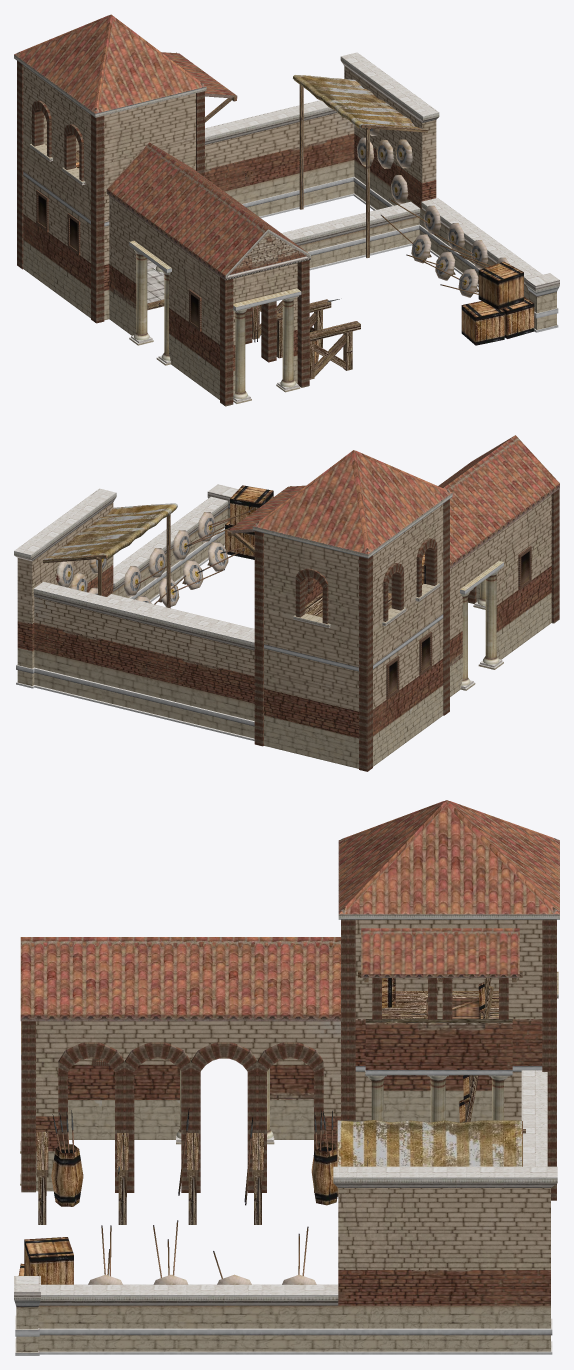
Rendered from building-archery.glb.
3 renders of one model, top to bottom at view 1: azimuth 30°, elevation 25°; view 2: azimuth 150°, elevation 25°; view 3: azimuth 270°, elevation 25°, orthographic. The views are drawn at different scales.
Parts seen in each view (by area): view 1: Authored_facility_mesh, byza_range_roof, byza_range_props, byza_range_tent; view 2: Authored_facility_mesh, byza_range_roof, byza_range_props, byza_range_tent; view 3: Authored_facility_mesh, byza_range_roof, byza_range_props, byza_range_tent.
Boxes of the visible parts, left/top/right/bottom form: Authored_facility_mesh: left=14, top=52, right=559, bottom=406; byza_range_roof: left=14, top=14, right=310, bottom=280; byza_range_props: left=38, top=52, right=534, bottom=379; byza_range_tent: left=293, top=75, right=421, bottom=129; Authored_facility_mesh: left=14, top=484, right=559, bottom=771; byza_range_roof: left=227, top=435, right=559, bottom=568; byza_range_props: left=43, top=485, right=529, bottom=694; byza_range_tent: left=43, top=503, right=177, bottom=560; Authored_facility_mesh: left=14, top=914, right=559, bottom=1355; byza_range_roof: left=20, top=800, right=559, bottom=1021; byza_range_props: left=18, top=970, right=525, bottom=1284; byza_range_tent: left=337, top=1120, right=521, bottom=1166.
Bounding box in the file's own units: 9.26 × 6.84 × 9.3.
4 materials, 4 textured.
